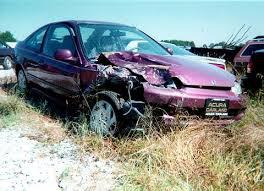bonnet-dent: (107, 46, 191, 83)
front-bumper-dent: (148, 96, 216, 130)
